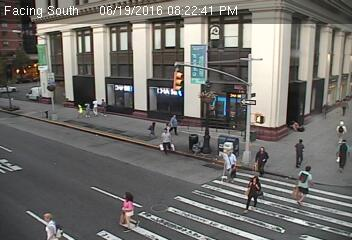neg: (167, 170, 197, 210), (215, 144, 243, 181), (200, 85, 226, 120), (72, 40, 98, 75), (167, 57, 192, 90), (239, 56, 264, 88), (287, 100, 311, 132), (113, 41, 135, 70), (40, 120, 61, 147), (16, 168, 37, 195), (311, 52, 331, 80), (39, 74, 58, 100), (83, 147, 102, 173), (119, 83, 137, 107), (192, 128, 209, 150)
pos: (291, 164, 325, 209), (238, 173, 269, 214), (115, 190, 142, 225), (325, 136, 349, 168), (289, 135, 312, 166), (251, 142, 272, 170), (154, 127, 175, 154), (41, 208, 60, 234), (144, 116, 159, 137), (86, 95, 101, 115), (168, 110, 183, 129), (333, 116, 347, 135)
